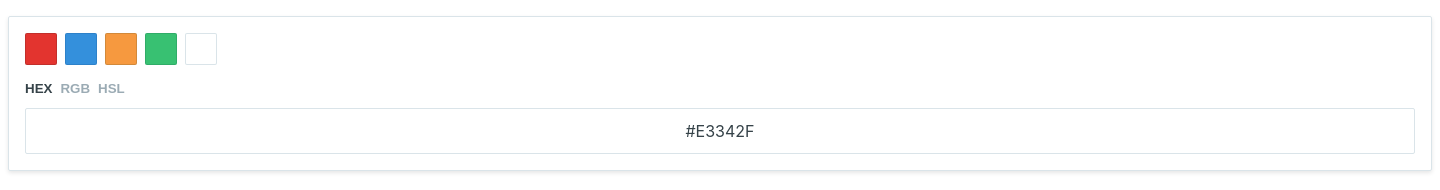
Test: ColorPicker › Codigo color por modo › mostrar el codigo de acuerdo al color cuando cambie
The image size is (1440, 190).
Click the 3rd list item with class "muestra" at (121, 49), box [105,33,137,65]
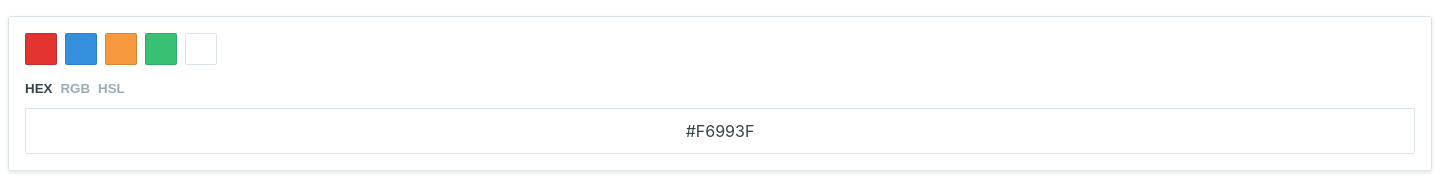
Result: the text with class "codigo-color" reads "#f6993f" at [686,121,754,141]
